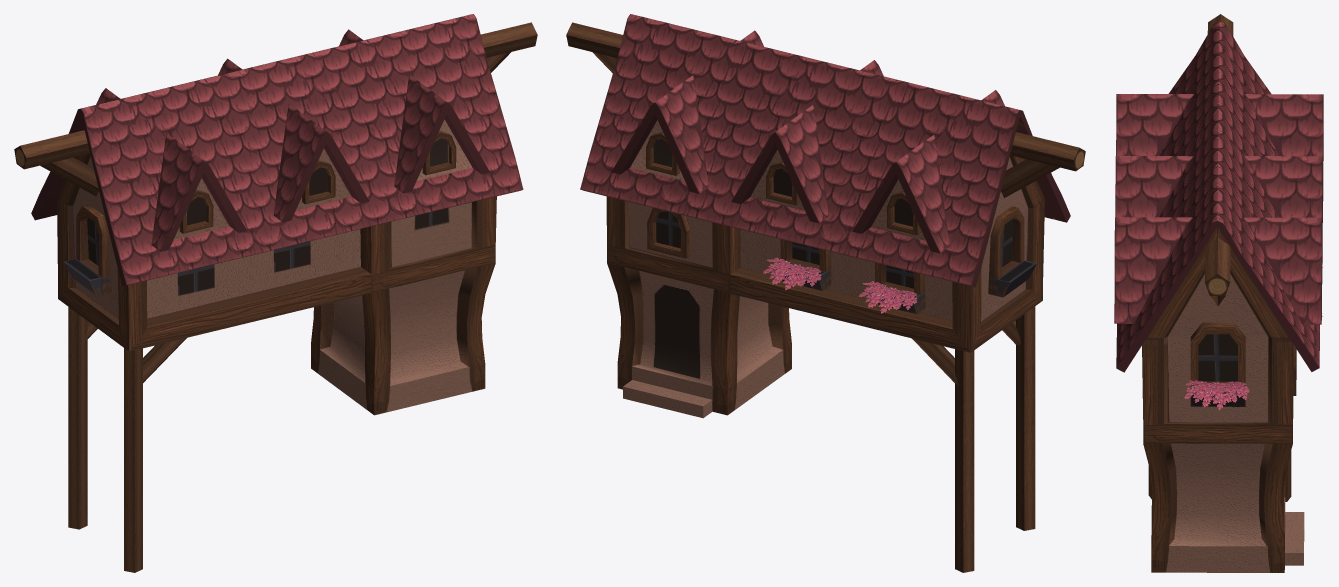
The model's file is House10.obj.
The picture shows the model from 3 angles, left to right: view 1: azimuth 30°, elevation 25°; view 2: azimuth 150°, elevation 25°; view 3: azimuth 270°, elevation 25°; orthographic projection. The views are drawn at different scales.
Parts seen in each view (by area): view 1: HouseMesh10; view 2: HouseMesh10; view 3: HouseMesh10.
Part boxes in pixels (<box>): HouseMesh10: <box>14,14,537,572</box>; HouseMesh10: <box>566,14,1085,572</box>; HouseMesh10: <box>1114,14,1323,572</box>.
Size of the model in its own units: 69.3 by 57.68 by 23.67.
